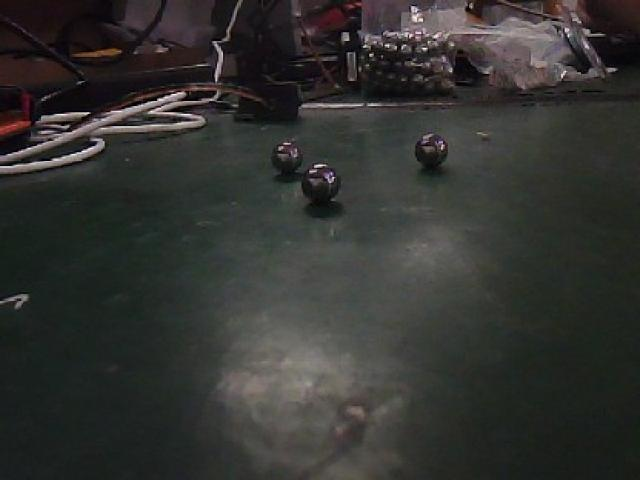steel-ball: (405, 114, 457, 174), (289, 160, 345, 206), (262, 128, 302, 174)
